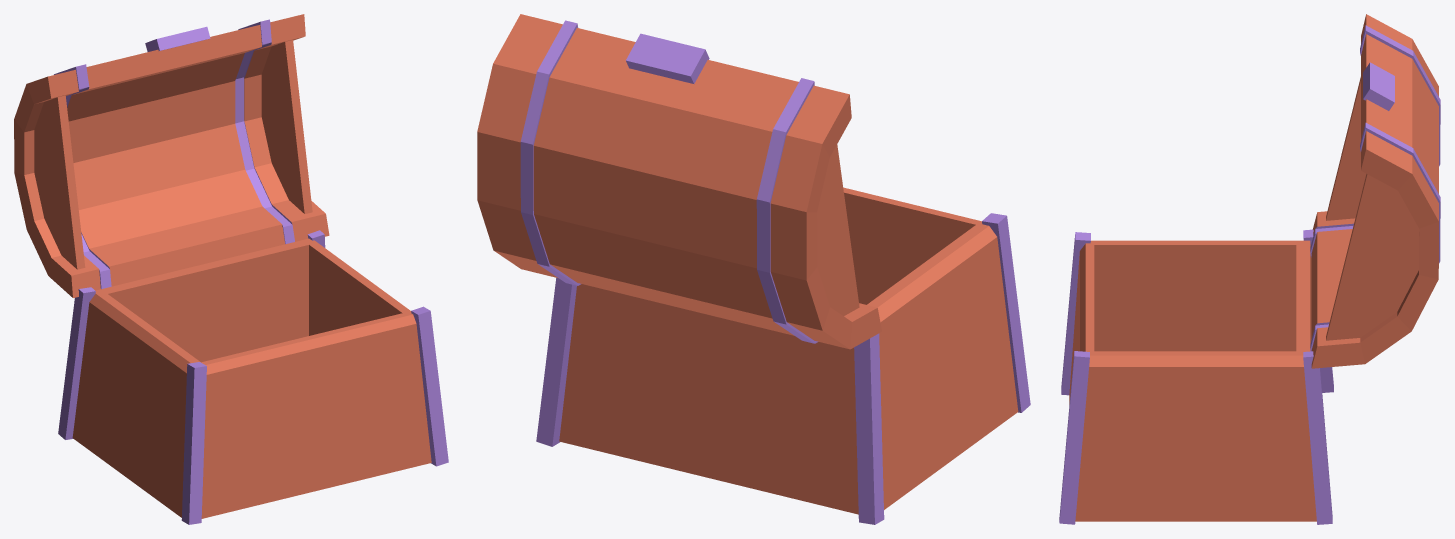
File: chestOpen.fbx
3 views of the same model, side by side, from view 1: azimuth 30°, elevation 25°; view 2: azimuth 150°, elevation 25°; view 3: azimuth 270°, elevation 25° (orthographic). The views are drawn at different scales.
Visible parts, largest first — view 1: chestOpen; view 2: chestOpen; view 3: chestOpen.
Part boxes in pixels (<box>): chestOpen: <box>14,14,448,524</box>; chestOpen: <box>477,14,1030,524</box>; chestOpen: <box>1059,14,1440,524</box>.
Bounding box in the file's own units: 98.25 × 127 × 114.
